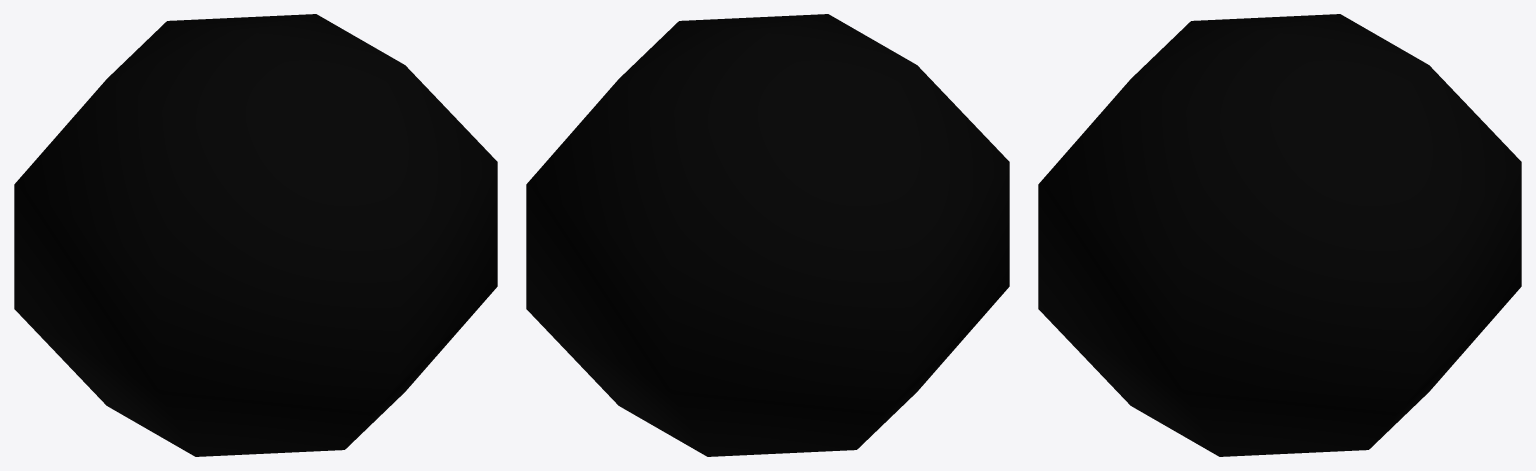
Rendered from bubble_solid_sphere4.glb.
3 renders of one model, left to right at view 1: azimuth 30°, elevation 25°; view 2: azimuth 150°, elevation 25°; view 3: azimuth 270°, elevation 25°, orthographic.
Parts seen in each view (by area): view 1: bubble_solid_texture.png__; view 2: bubble_solid_texture.png__; view 3: bubble_solid_texture.png__.
Part boxes in pixels (box(x1,y1,x2,y2)): bubble_solid_texture.png__: box(14, 14, 497, 456); bubble_solid_texture.png__: box(526, 14, 1009, 456); bubble_solid_texture.png__: box(1038, 14, 1521, 456).
Size of the model in its own units: 9.18 by 9.19 by 9.97.
1 material, 1 textured.
